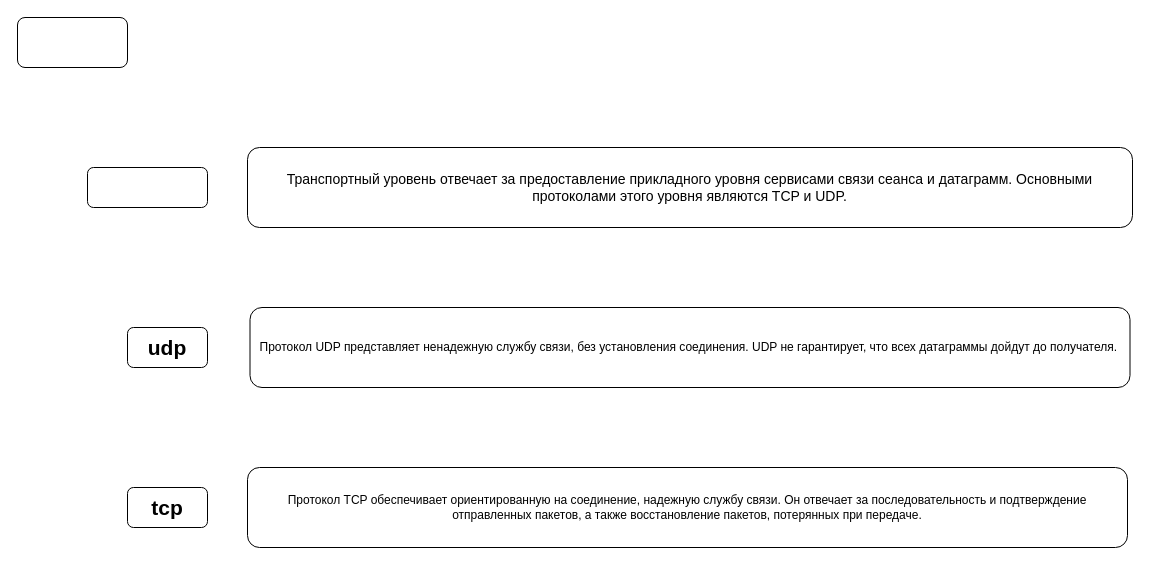
Some shapes in this 1150 by 565 pixel diagram are drawn without their labels. The shapes that lost their labels are listed below. From the top down, each one's box as (x1, y1, x2, y2) in pixels, then its label:
(16, 16, 128, 68): Networks
(86, 166, 208, 208): transport
